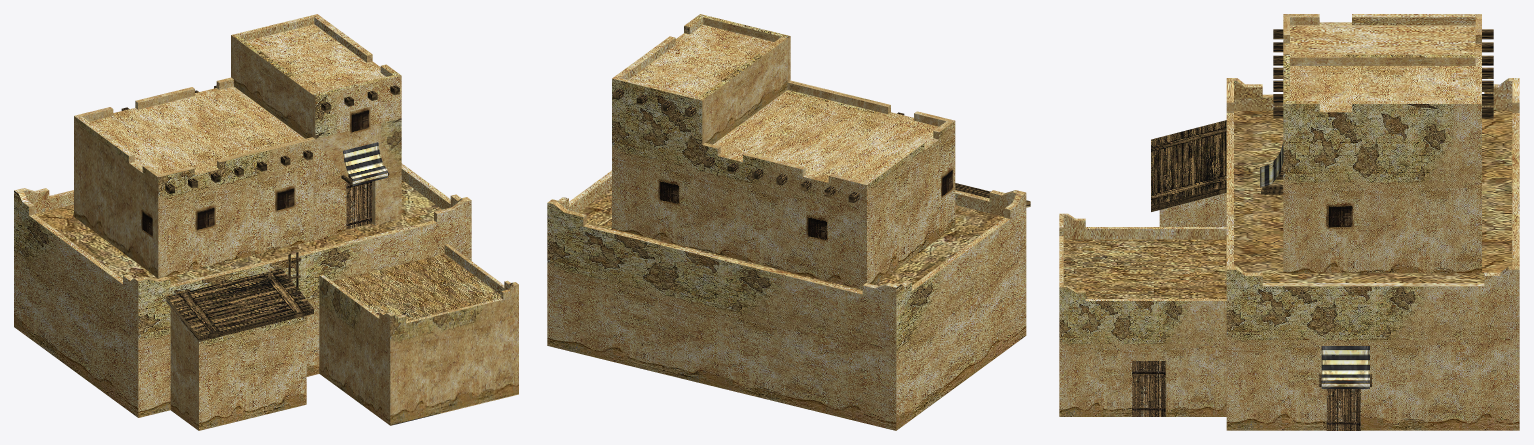
File: pers_alt_build_01.dae
The picture shows the model from 3 angles, left to right: view 1: azimuth 30°, elevation 25°; view 2: azimuth 150°, elevation 25°; view 3: azimuth 270°, elevation 25°; orthographic projection. The views are drawn at different scales.
Parts seen in each view (by area): view 1: houseTwo01; view 2: houseTwo01; view 3: houseTwo01.
Part boxes in pixels (x1,y1,x2,y2): houseTwo01: (14, 14, 518, 430); houseTwo01: (547, 14, 1030, 430); houseTwo01: (1059, 14, 1519, 430).
Bounding box in the file's own units: 24.73 × 23.83 × 17.16.
